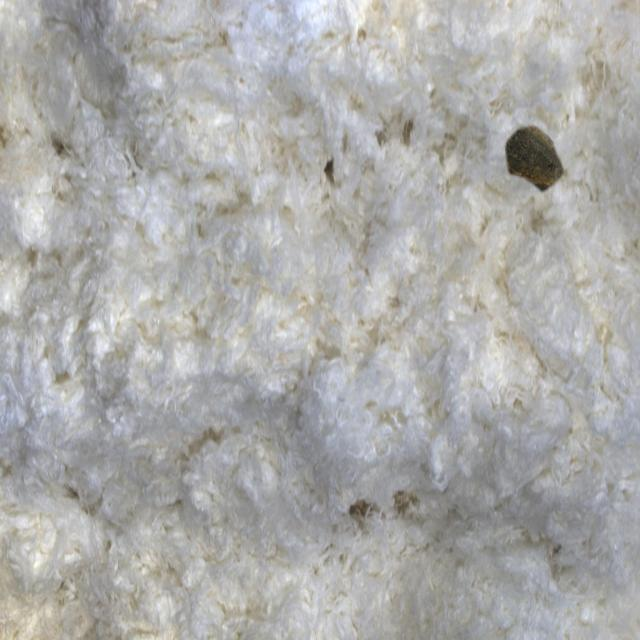dust: (489, 90, 595, 235)
